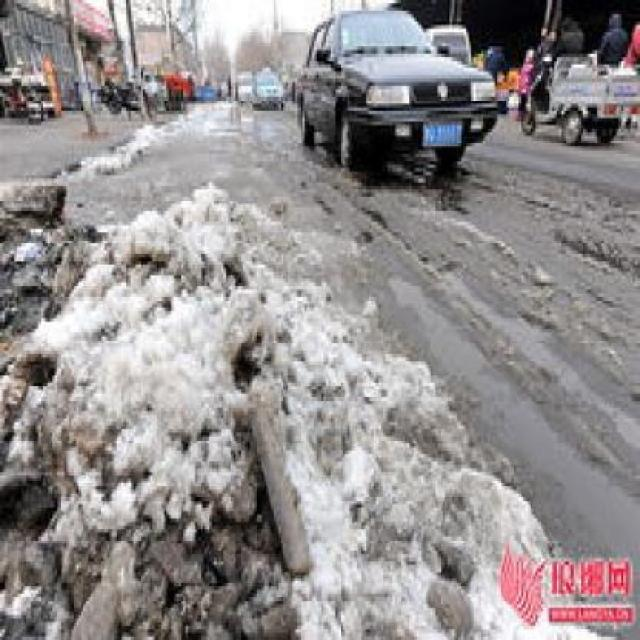garbage: (0, 225, 344, 636), (345, 340, 495, 637), (143, 186, 269, 229)
